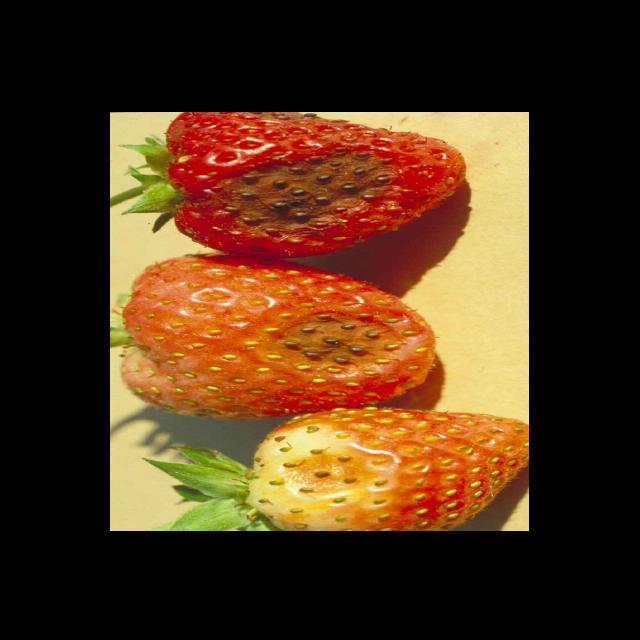Anthracnose Fruit Rot: (212, 141, 402, 241), (246, 420, 405, 529), (247, 303, 407, 390)
